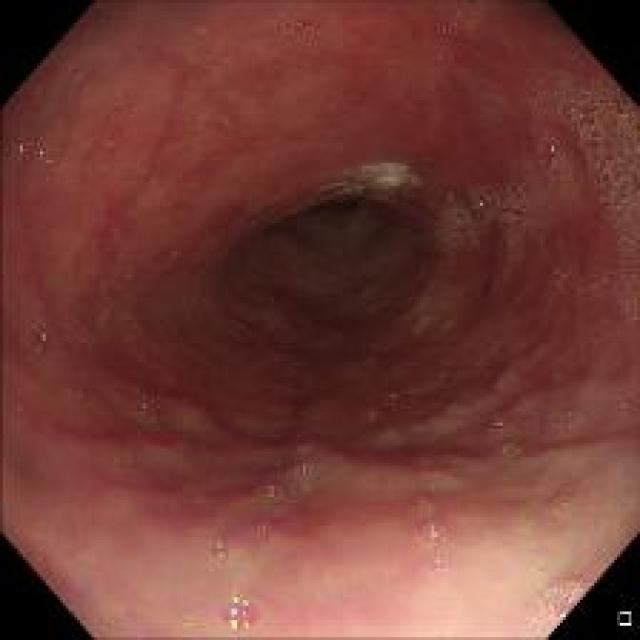bubbles: (530, 66, 634, 312), (424, 149, 579, 260), (409, 455, 452, 589), (536, 570, 600, 629), (430, 5, 480, 69), (212, 579, 266, 625), (268, 6, 320, 46), (26, 312, 64, 365), (55, 386, 104, 420), (250, 472, 296, 506), (128, 389, 158, 434), (204, 535, 236, 562), (522, 595, 550, 624), (554, 408, 580, 432), (9, 398, 30, 422), (174, 612, 198, 630), (616, 395, 634, 415), (552, 492, 572, 508)
color misalignment: (15, 139, 56, 165), (228, 592, 251, 628), (610, 89, 629, 125), (425, 514, 441, 548), (545, 141, 558, 169), (488, 418, 511, 432), (38, 330, 49, 341)
